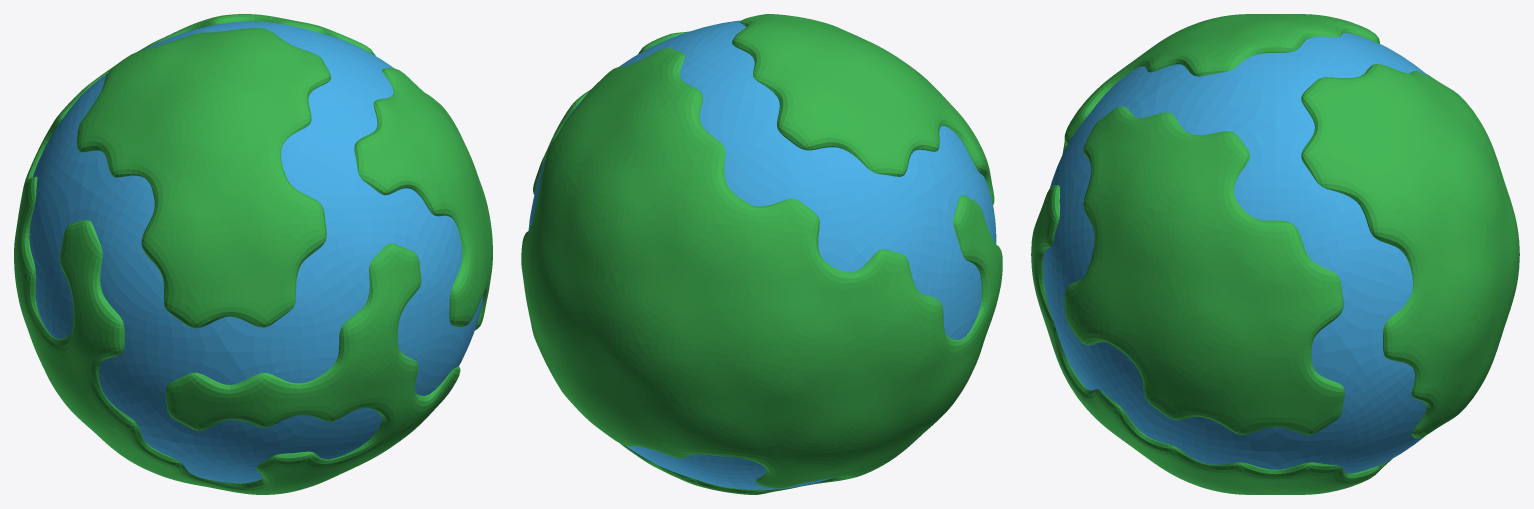
Rendered from Planet_shape.fbx.
3 renders of one model, left to right at view 1: azimuth 30°, elevation 25°; view 2: azimuth 150°, elevation 25°; view 3: azimuth 270°, elevation 25°, orthographic.
Parts seen in each view (by area): view 1: Icosphere.013, Ocean, Icosphere.012; view 2: Icosphere.012, Icosphere.013, Ocean; view 3: Icosphere.013, Ocean, Icosphere.012.
Part boxes in pixels (bbox=[...]): Icosphere.013: bbox=[14, 14, 491, 494]; Ocean: bbox=[29, 21, 483, 483]; Icosphere.012: bbox=[14, 40, 492, 490]; Icosphere.012: bbox=[525, 21, 973, 474]; Icosphere.013: bbox=[521, 14, 1002, 494]; Ocean: bbox=[528, 20, 996, 489]; Icosphere.013: bbox=[1031, 16, 1484, 491]; Ocean: bbox=[1043, 33, 1431, 473]; Icosphere.012: bbox=[1092, 14, 1519, 494].
Size of the model in its own units: 1788 by 1838 by 1829.
